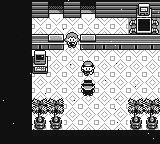leer: (32, 51, 50, 74)
main: (81, 61, 95, 76)
no-caminable: (1, 1, 160, 143), (128, 2, 160, 34), (31, 99, 64, 130), (128, 99, 159, 129), (95, 36, 159, 50), (96, 1, 128, 18), (32, 2, 48, 18), (64, 2, 80, 17), (32, 35, 49, 49), (80, 35, 95, 50), (49, 35, 63, 50)
npc: (80, 82, 96, 96), (65, 33, 79, 48)
puerta: (80, 1, 95, 18), (49, 1, 64, 18)
